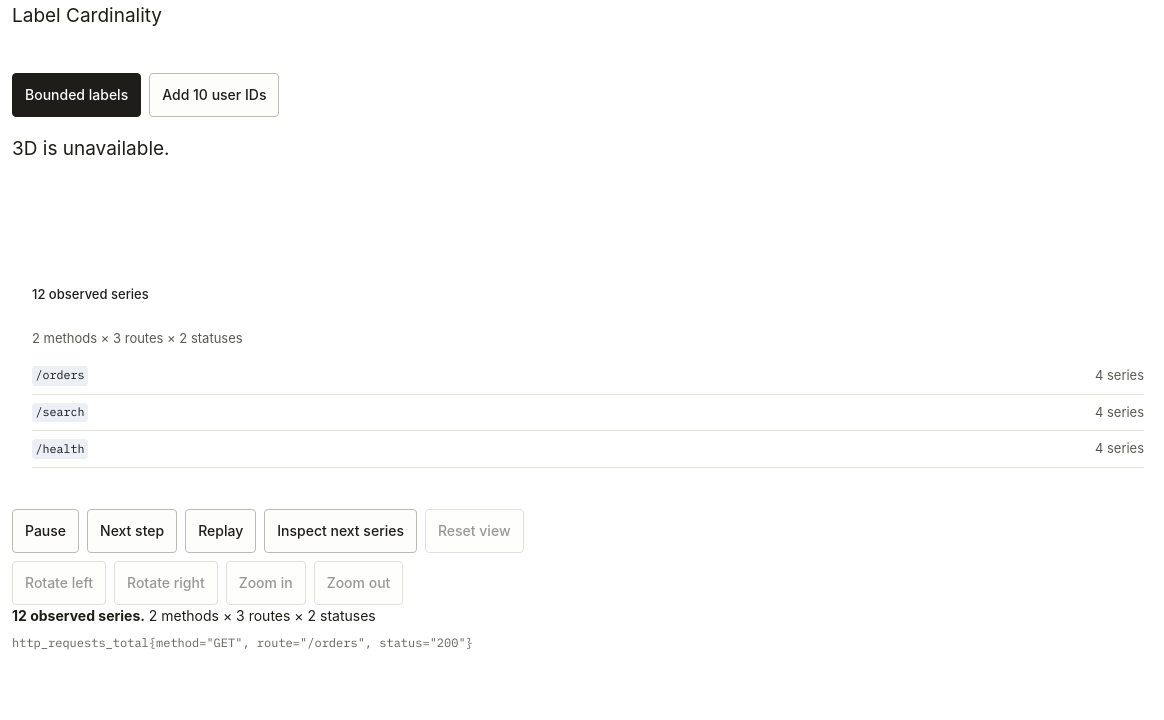
Prometheus spatial article controls › preserves the cardinality lesson and series inspection without WebGL
Expected: the message shows "12 observed series", [12, 606, 473, 651]
Click the button "Add 10 user IDs". click: x=214, y=94
box: [149, 72, 279, 116]
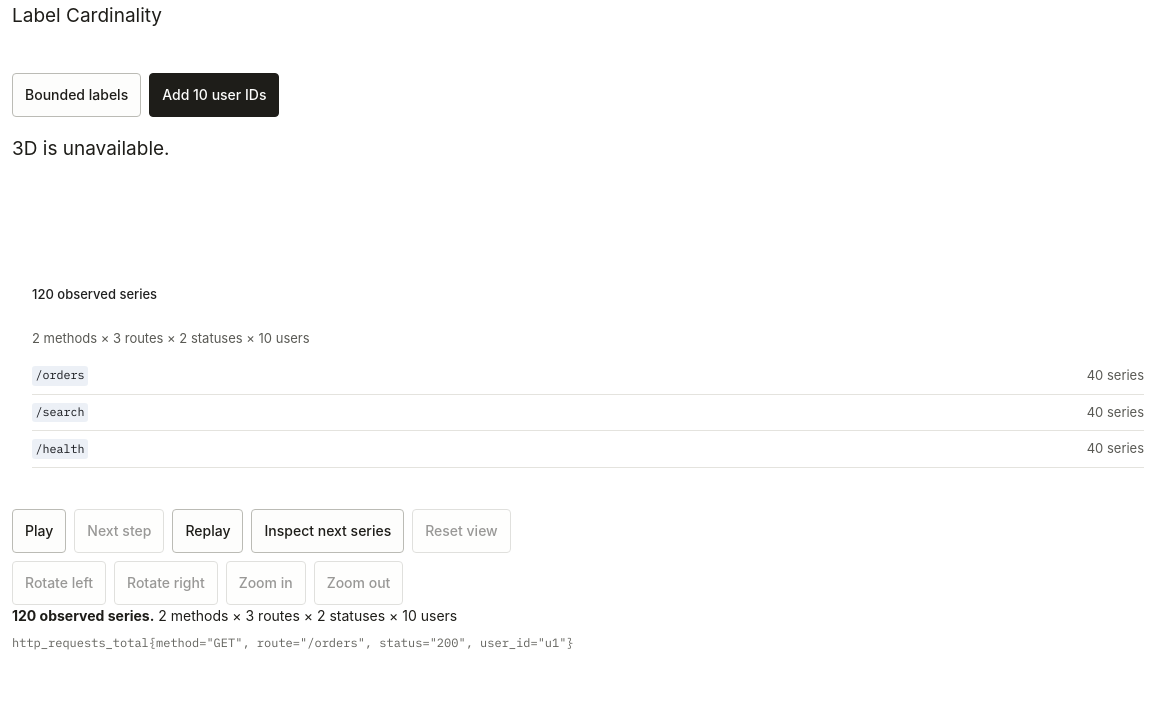
Result: the message shows "120 observed series" at [12, 606, 574, 651]
Result: the message shows "user_id=\"u1\"" at [466, 635, 566, 651]
Click the button "Inspect next series". click: x=328, y=530
box: [252, 508, 404, 552]
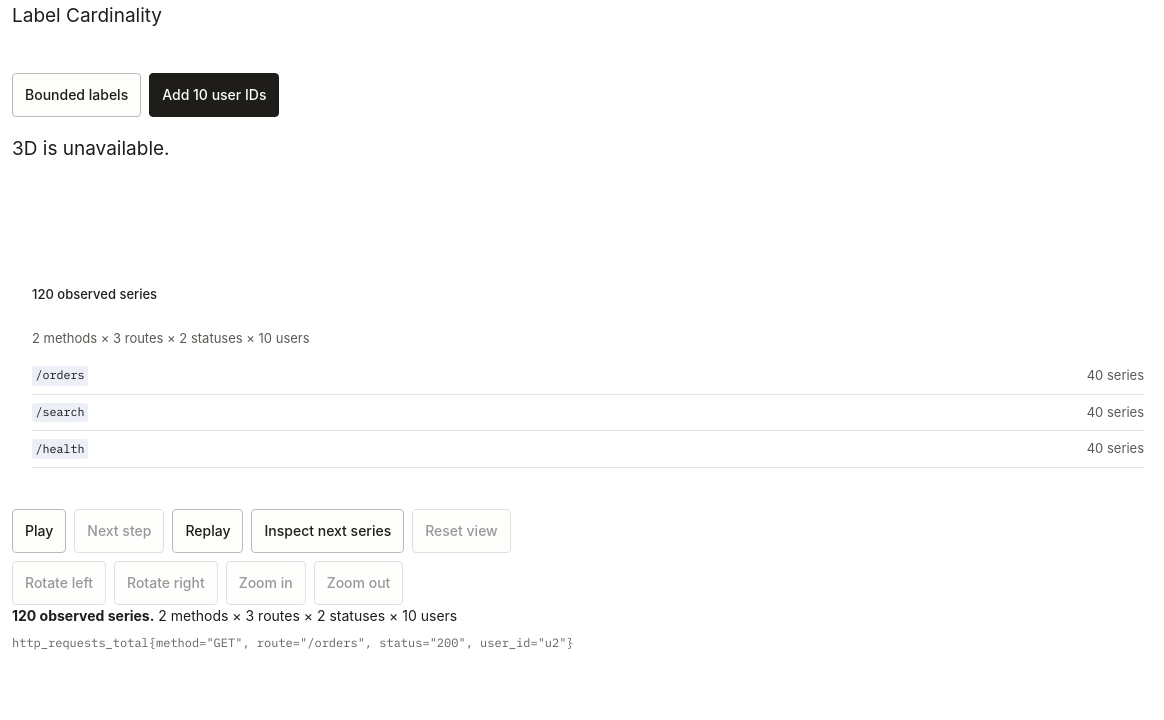
Expected: the button "Reset view" is disabled, [412, 508, 511, 552]
Result: the message shows "user_id=\"u2\"" at [466, 635, 566, 651]
Click the button "Bounded labels". click: x=77, y=94
box: [12, 72, 141, 116]
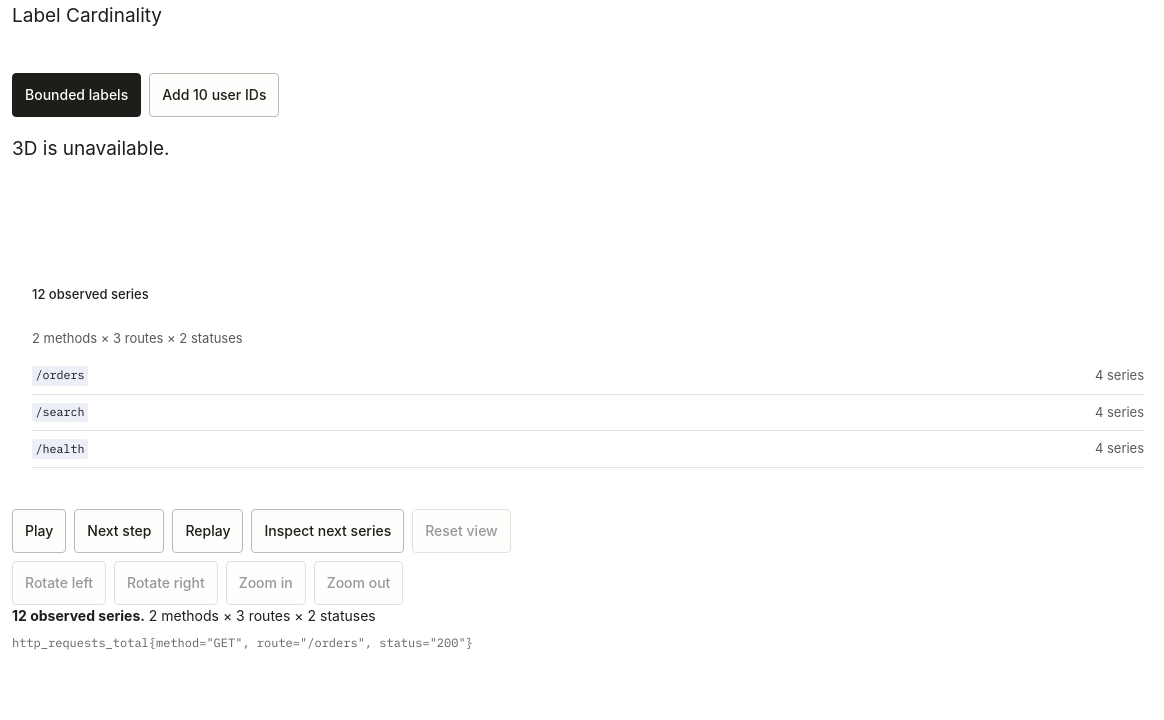
Result: the message shows "12 observed series" at [12, 606, 473, 651]
Result: the text "user_id" is gone
